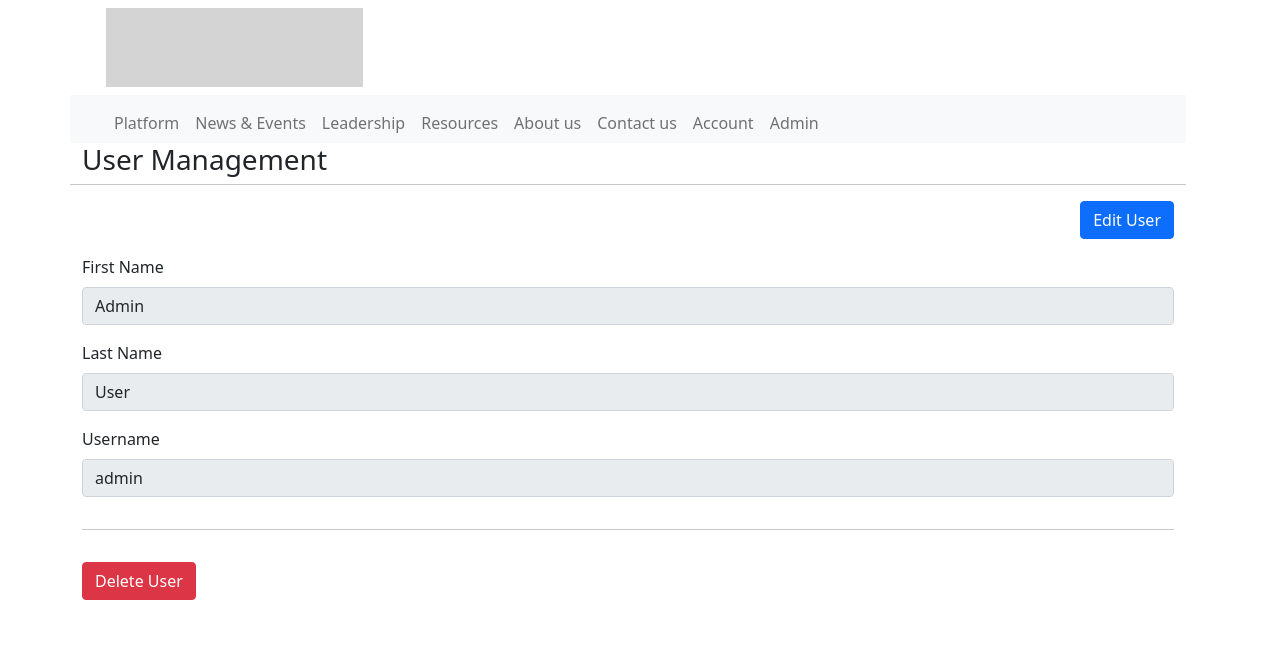
Test: AdminUserManagement › as admin › delete user › displays success message when user is deleted
Click the button "Delete User". click: (139, 582)
box: left=82, top=562, right=196, bottom=600
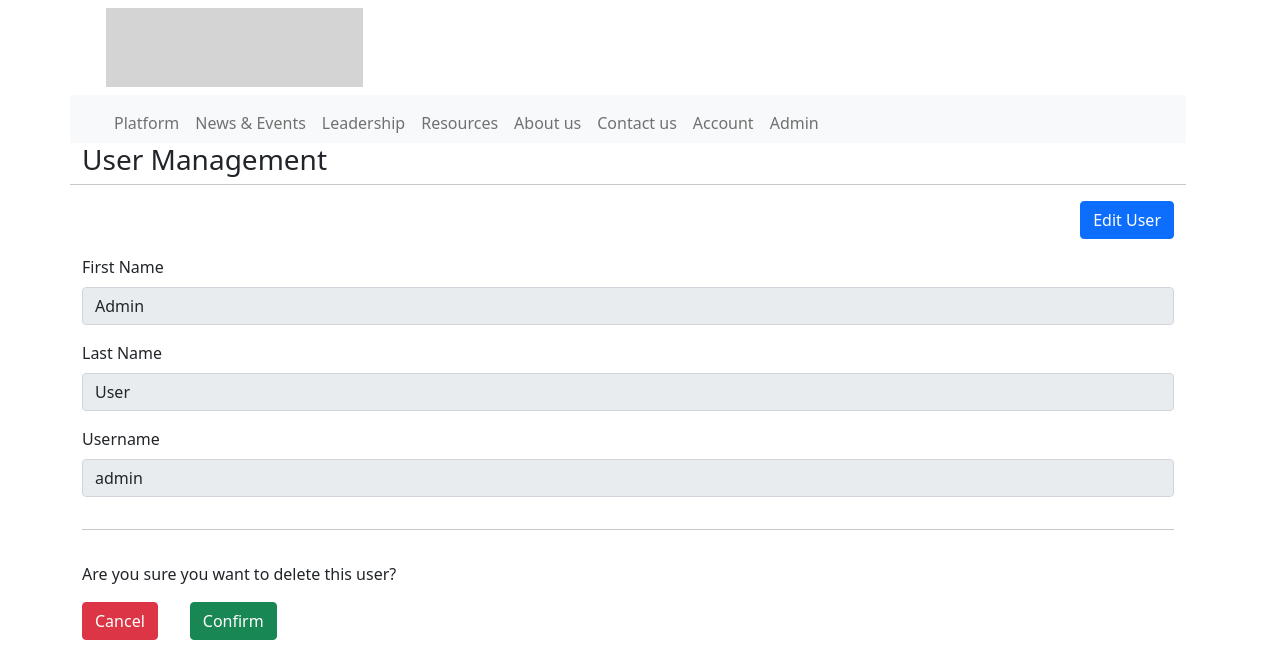
Click the button "Confirm". click: (233, 622)
box: left=190, top=602, right=277, bottom=640
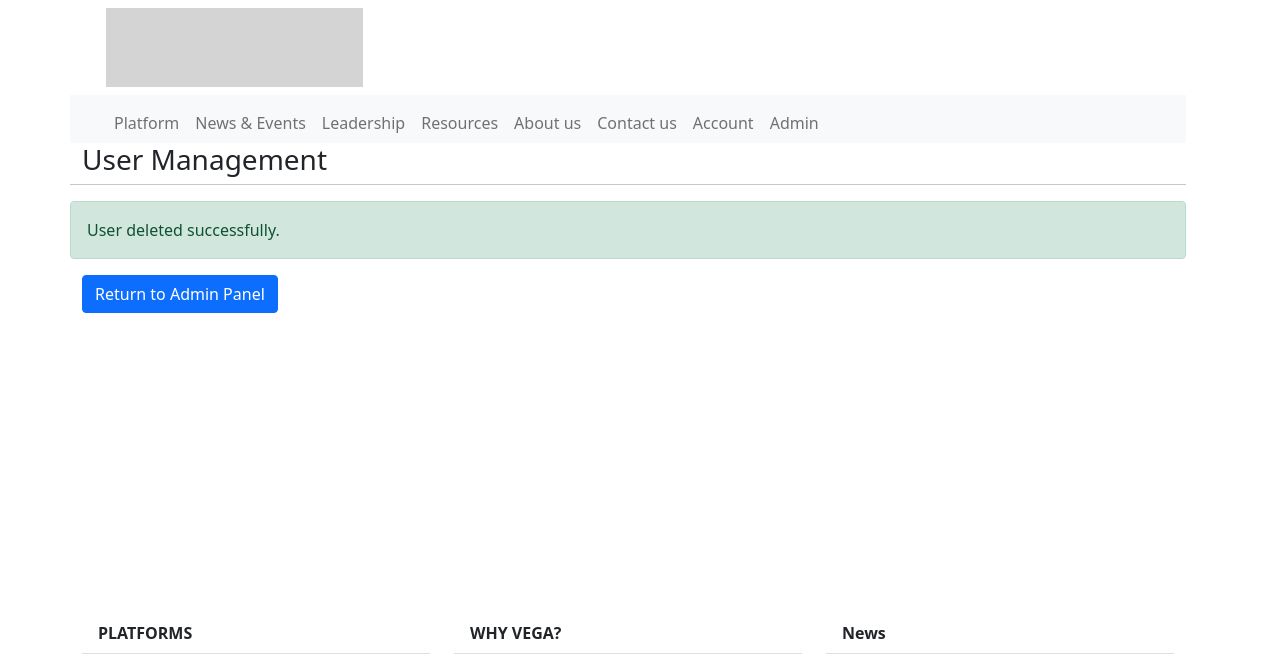
Expected: the text "User deleted successfully." is shown, left=70, top=202, right=1186, bottom=260
